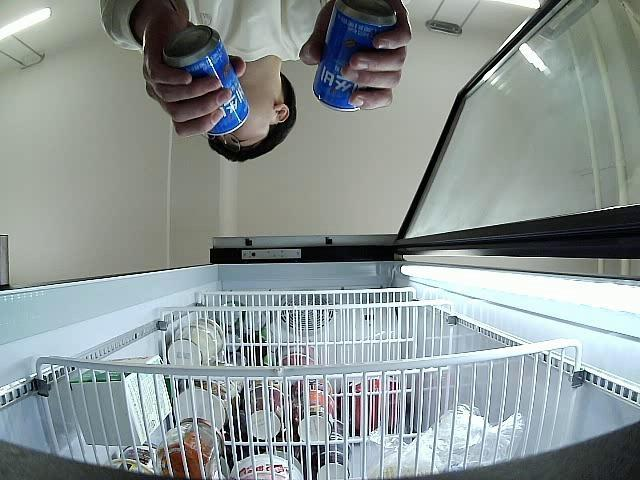15_letsbe: (314, 0, 398, 113), (165, 26, 249, 134)
